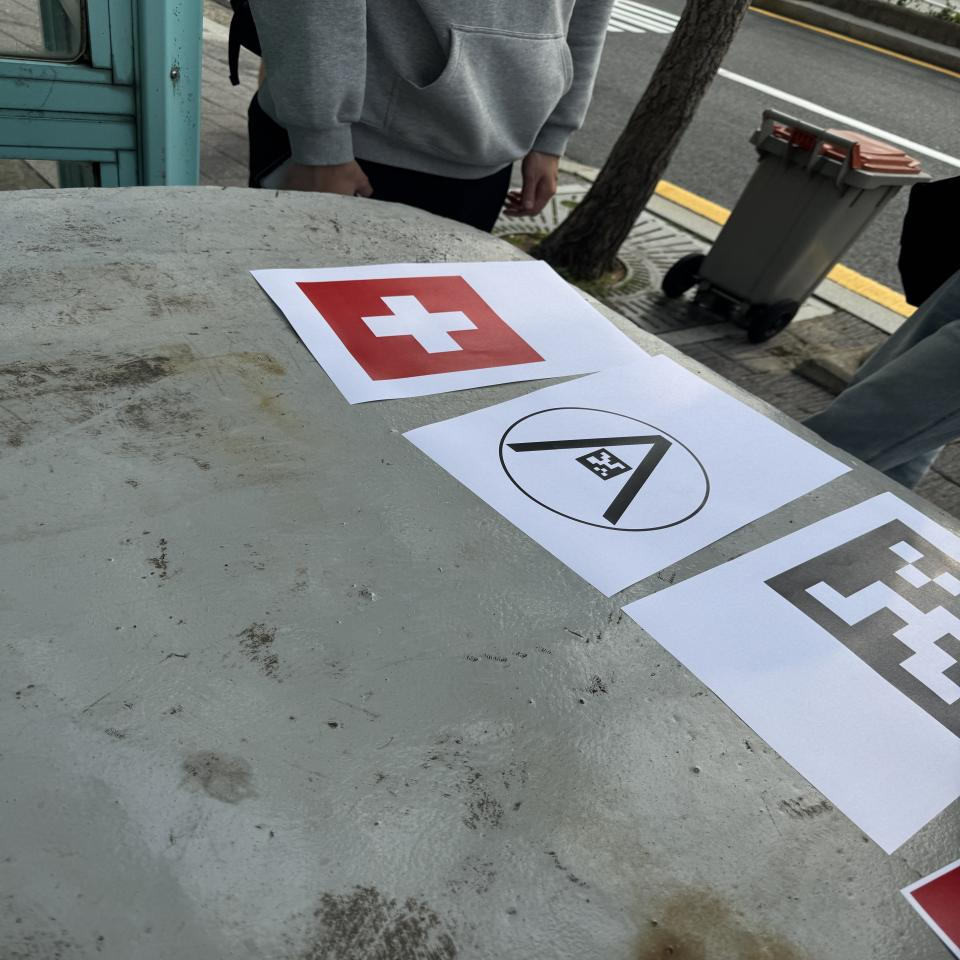ArUro mark: (748, 504, 960, 756)
rescue point: (280, 264, 568, 393)
vertiport: (489, 393, 737, 549)
